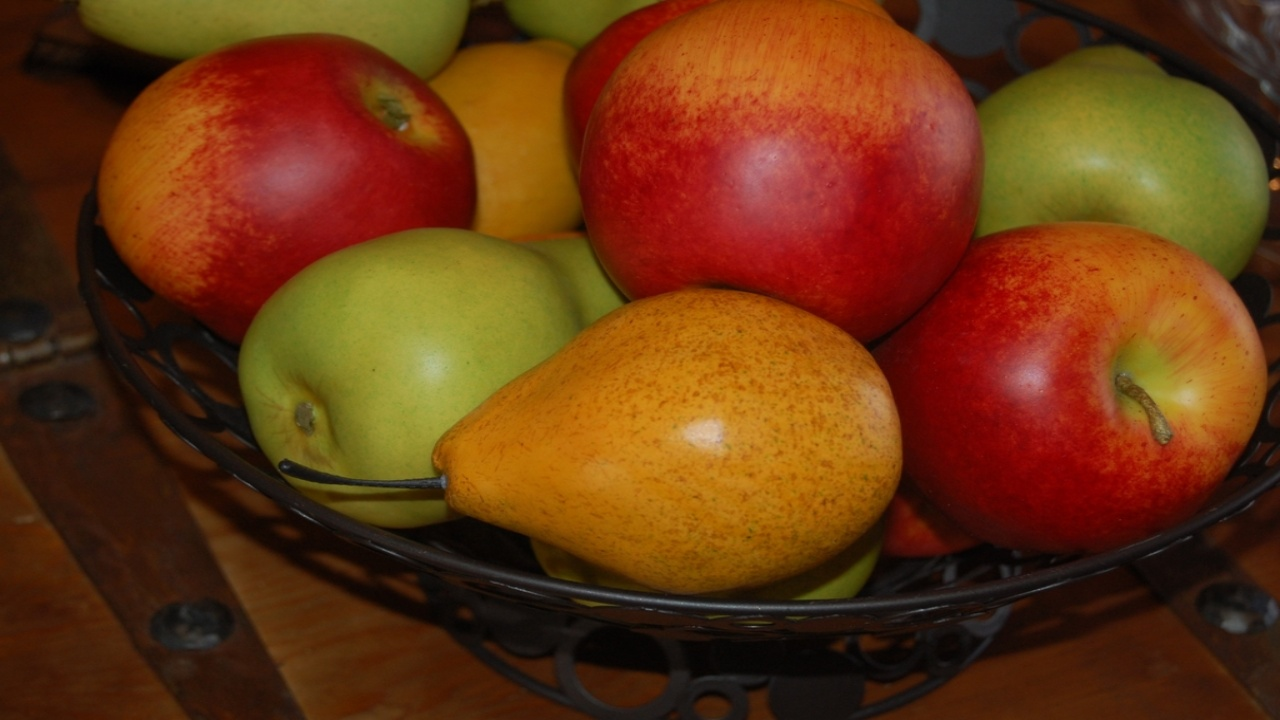apple: (570, 0, 976, 285), (79, 33, 483, 305), (912, 244, 1257, 512)
